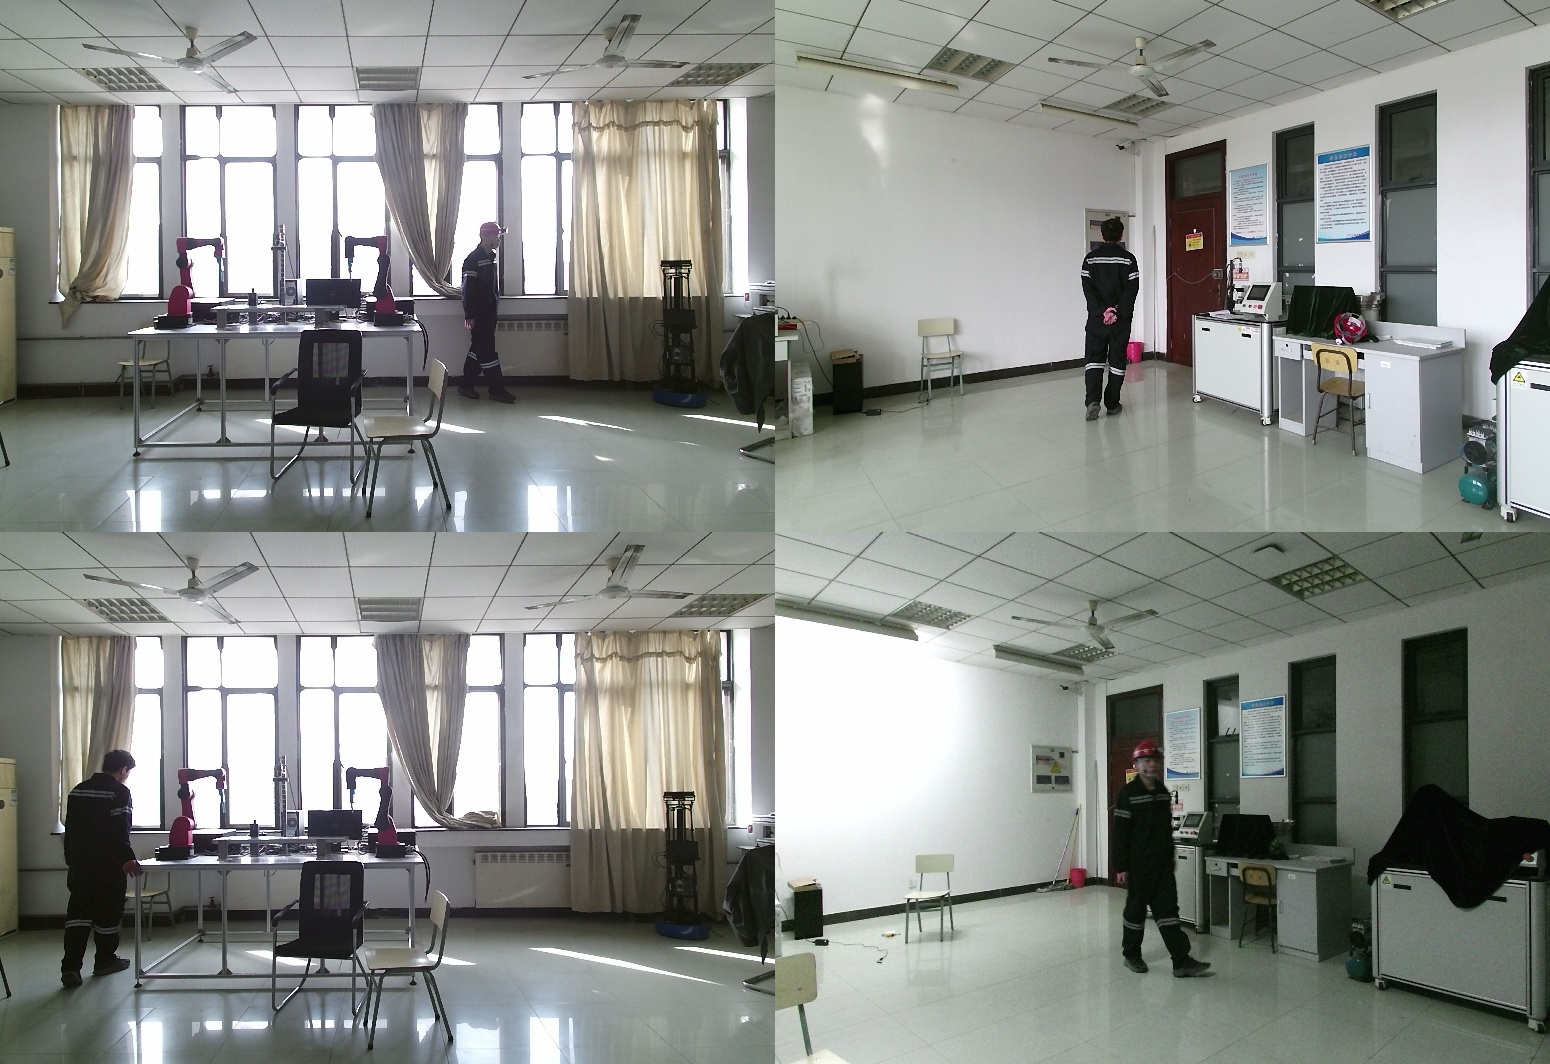person: (1108, 741, 1214, 977), (56, 749, 143, 985), (1074, 217, 1143, 426), (462, 222, 519, 413)
